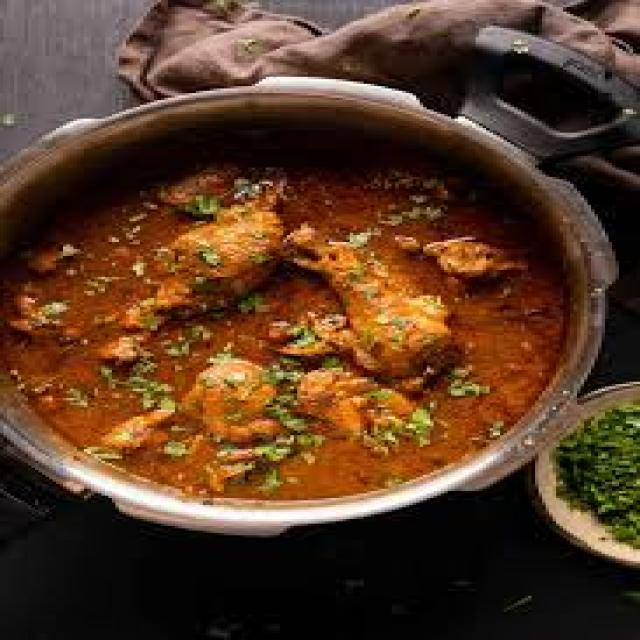Frango: (14, 130, 556, 508)
